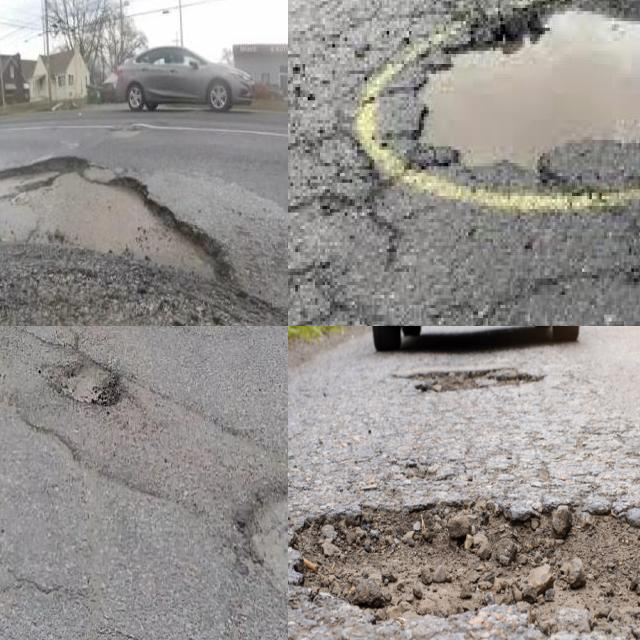Pothole: (288, 498, 640, 640), (416, 4, 640, 179), (0, 158, 227, 293), (46, 350, 121, 410)
